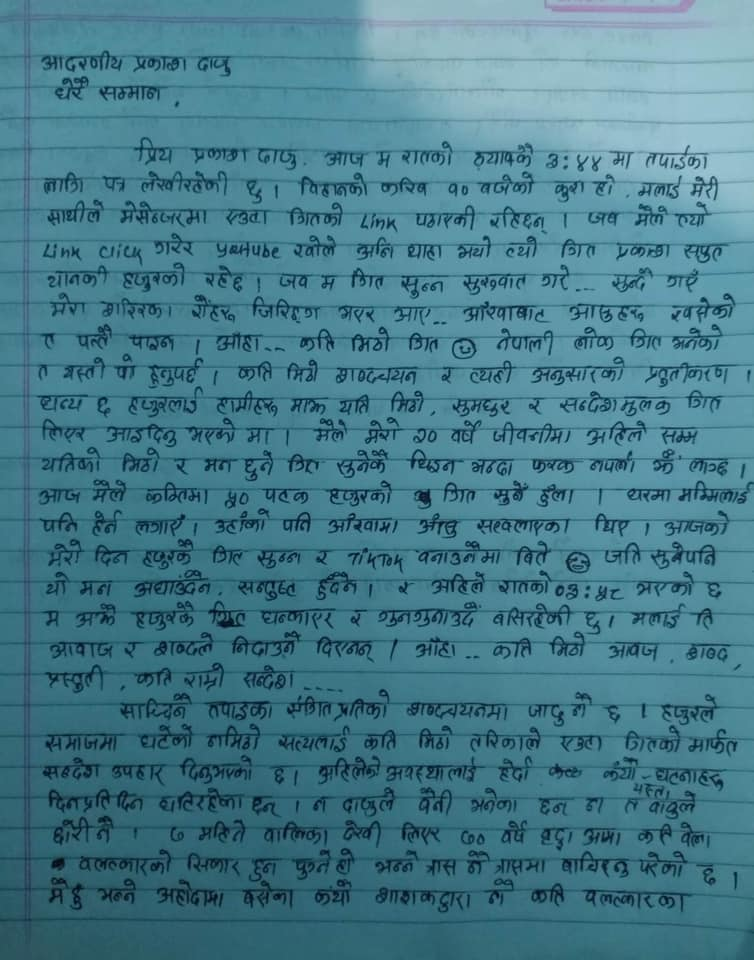text: (579, 885, 694, 916), (558, 389, 675, 417), (376, 600, 484, 629), (373, 884, 473, 915), (384, 754, 483, 784), (640, 360, 744, 388), (529, 356, 628, 385), (76, 848, 173, 877), (41, 787, 147, 813), (125, 386, 204, 419), (117, 199, 210, 227), (139, 169, 231, 197), (491, 601, 576, 631), (156, 786, 246, 814), (416, 539, 504, 567), (461, 299, 552, 326), (653, 761, 733, 791), (404, 699, 512, 721), (37, 48, 128, 74), (314, 753, 383, 787), (179, 755, 257, 785), (130, 570, 215, 597), (277, 724, 353, 754), (668, 292, 739, 324), (155, 878, 226, 910), (229, 630, 302, 661), (676, 477, 754, 506), (491, 419, 574, 446), (564, 299, 646, 326), (130, 599, 197, 632), (248, 295, 323, 324), (649, 539, 718, 570), (558, 851, 629, 881), (313, 633, 379, 665), (121, 261, 186, 293), (632, 569, 697, 601), (325, 510, 402, 537), (255, 606, 338, 631), (214, 388, 283, 418), (660, 692, 719, 727), (117, 693, 193, 720), (468, 726, 544, 753), (38, 445, 104, 476), (662, 509, 732, 538), (259, 819, 331, 847), (42, 663, 109, 693), (297, 172, 368, 200), (493, 325, 555, 357), (325, 479, 393, 508), (334, 687, 392, 721), (104, 421, 179, 447), (473, 517, 575, 536), (143, 480, 214, 507), (584, 419, 650, 448), (340, 785, 398, 818), (331, 365, 422, 386), (623, 723, 684, 754), (146, 356, 205, 388), (345, 544, 410, 573), (40, 731, 125, 753), (235, 574, 299, 603), (413, 204, 481, 231), (488, 205, 549, 235), (334, 448, 391, 480), (552, 581, 628, 605), (151, 630, 216, 658), (212, 506, 272, 536), (644, 144, 710, 171), (141, 538, 195, 571), (404, 448, 465, 477), (687, 726, 742, 758), (471, 142, 536, 169), (95, 81, 168, 105), (45, 199, 105, 228), (669, 324, 727, 354), (41, 756, 103, 784), (204, 697, 275, 721), (628, 602, 686, 631), (205, 723, 263, 752), (238, 882, 298, 910), (400, 139, 454, 170), (188, 294, 240, 326), (186, 416, 238, 448), (460, 271, 529, 295), (428, 569, 487, 597), (46, 265, 111, 290), (136, 722, 194, 750), (637, 850, 689, 881), (44, 639, 117, 661), (450, 394, 514, 419), (183, 852, 242, 879), (542, 149, 604, 174), (466, 358, 517, 388), (242, 664, 296, 692), (130, 134, 177, 166), (100, 297, 165, 320), (497, 569, 552, 596), (605, 638, 662, 664), (107, 761, 168, 785), (314, 571, 361, 602), (477, 172, 535, 197), (286, 202, 346, 226), (211, 241, 283, 261), (469, 787, 520, 815), (131, 513, 188, 538), (414, 511, 461, 541), (197, 818, 249, 845), (287, 849, 332, 880), (93, 876, 138, 907), (39, 416, 88, 444), (291, 231, 338, 260), (608, 267, 656, 295), (61, 356, 109, 384), (189, 143, 250, 165), (611, 241, 672, 263), (72, 602, 118, 631), (131, 52, 191, 74), (415, 783, 455, 816), (205, 263, 246, 295), (45, 538, 86, 570), (51, 815, 92, 847), (32, 390, 89, 413), (587, 451, 639, 476), (649, 792, 699, 818), (239, 449, 277, 483), (311, 879, 354, 909), (183, 662, 229, 690), (493, 856, 551, 878), (411, 634, 458, 661), (396, 820, 443, 847), (50, 74, 92, 104), (571, 324, 616, 352), (119, 446, 161, 476), (214, 329, 264, 354), (285, 696, 335, 721), (372, 849, 420, 875), (73, 325, 117, 353), (40, 170, 87, 196), (152, 231, 195, 259), (353, 236, 396, 264), (398, 274, 446, 299), (254, 144, 300, 170), (127, 330, 179, 353), (361, 417, 402, 446), (536, 481, 577, 510), (545, 633, 589, 660), (222, 204, 271, 228), (254, 547, 305, 570), (339, 817, 384, 843), (529, 455, 582, 477), (350, 328, 393, 355), (414, 723, 454, 752), (494, 755, 534, 784), (258, 484, 313, 505), (682, 242, 730, 266), (683, 641, 733, 664), (386, 387, 427, 415), (592, 510, 633, 538), (526, 699, 567, 727), (37, 509, 81, 535), (47, 292, 89, 319), (196, 52, 235, 81), (514, 539, 553, 568), (469, 456, 518, 479), (310, 417, 350, 445), (682, 388, 725, 414), (490, 633, 533, 659), (483, 878, 519, 909), (88, 508, 125, 538), (96, 242, 144, 265), (379, 176, 429, 198), (489, 480, 531, 506), (602, 540, 644, 566), (529, 882, 568, 910), (90, 477, 130, 504), (33, 486, 82, 508), (580, 824, 623, 849), (298, 326, 339, 352), (557, 733, 605, 755), (676, 201, 712, 230), (439, 481, 479, 507), (357, 211, 400, 235), (284, 357, 322, 384), (678, 820, 713, 849), (536, 825, 575, 851), (636, 822, 675, 848), (656, 424, 702, 446), (448, 418, 484, 446), (91, 543, 133, 567), (687, 456, 732, 478), (336, 302, 379, 325), (361, 728, 399, 754), (536, 794, 574, 820), (249, 792, 283, 821), (405, 329, 441, 356), (285, 450, 321, 477), (389, 303, 433, 325), (455, 236, 492, 262), (627, 327, 664, 353), (664, 267, 702, 292), (289, 393, 330, 416), (236, 360, 275, 384), (209, 543, 248, 567), (600, 757, 639, 781), (539, 264, 571, 293), (625, 486, 673, 505), (133, 667, 174, 689), (322, 149, 367, 169), (349, 267, 386, 291), (558, 238, 598, 260), (504, 236, 539, 261), (463, 847, 491, 878), (632, 204, 668, 228), (278, 511, 314, 535), (496, 819, 529, 845), (337, 393, 374, 416), (40, 241, 82, 261), (405, 242, 445, 263), (248, 856, 279, 883), (585, 206, 621, 229), (45, 875, 69, 909), (423, 857, 460, 879), (650, 448, 678, 476), (202, 455, 236, 478), (77, 577, 114, 598), (43, 570, 70, 598), (113, 354, 139, 383), (580, 607, 606, 636), (276, 270, 311, 291), (222, 485, 250, 511), (571, 688, 593, 721), (93, 813, 115, 846), (240, 176, 264, 206), (333, 845, 355, 876), (609, 146, 635, 171), (695, 862, 719, 889), (243, 426, 277, 445), (409, 426, 441, 446), (456, 827, 488, 847), (67, 881, 87, 912), (100, 172, 128, 194), (692, 607, 717, 631), (601, 701, 626, 725), (122, 638, 146, 662), (310, 792, 335, 815), (701, 578, 725, 601), (39, 607, 63, 630), (268, 763, 292, 786), (35, 329, 60, 351), (583, 793, 608, 815), (95, 393, 113, 420), (438, 365, 459, 387), (346, 607, 367, 629), (372, 147, 393, 168), (171, 455, 192, 476), (526, 393, 546, 415), (33, 360, 52, 383), (311, 548, 334, 567), (167, 823, 186, 845), (446, 181, 469, 199), (318, 272, 338, 292), (621, 797, 639, 815)
